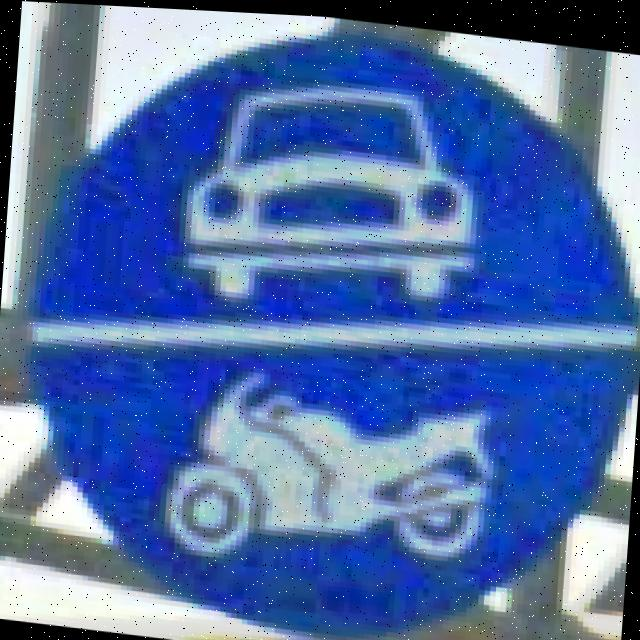carmotorcycle: (2, 0, 640, 640)
